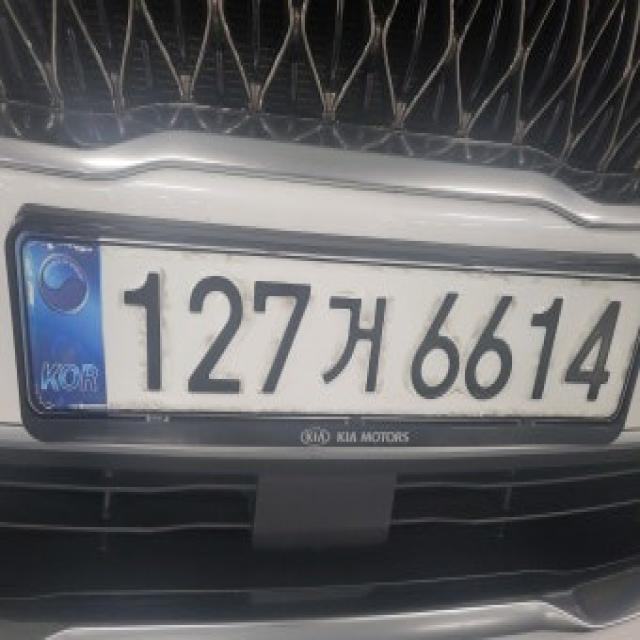car: (4, 173, 640, 476)
